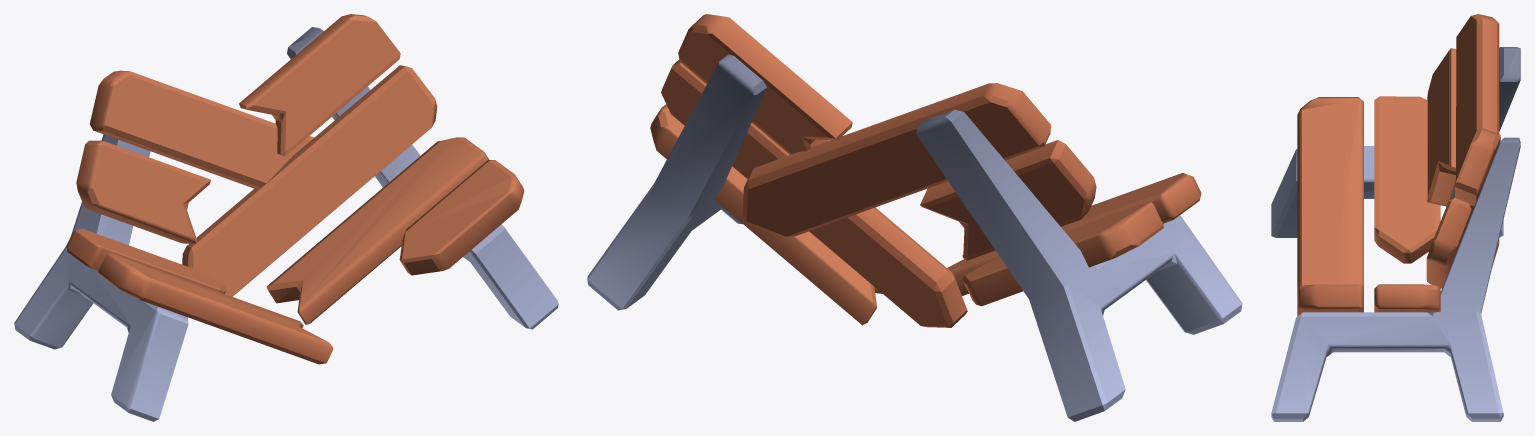
File: kenney-graveyard__bench-damaged.glb
3 renders of one model, left to right at view 1: azimuth 30°, elevation 25°; view 2: azimuth 150°, elevation 25°; view 3: azimuth 270°, elevation 25°, orthographic. The views are drawn at different scales.
Parts seen in each view (by area): view 1: bench-damaged; view 2: bench-damaged; view 3: bench-damaged.
Part boxes in pixels (box(x1,y1,x2,y2)): bench-damaged: box(14, 14, 558, 421); bench-damaged: box(587, 14, 1242, 421); bench-damaged: box(1271, 14, 1520, 421).
Size of the model in its own units: 0.8986 by 0.5096 by 0.4502.
Materials: 1 (1 with a texture image).
